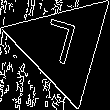L_S: (41, 17, 85, 75)
